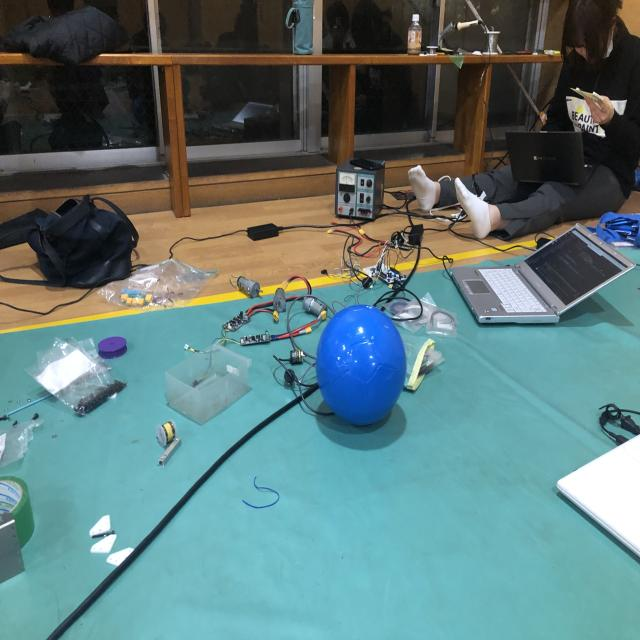blue_ball: (317, 305, 403, 429)
